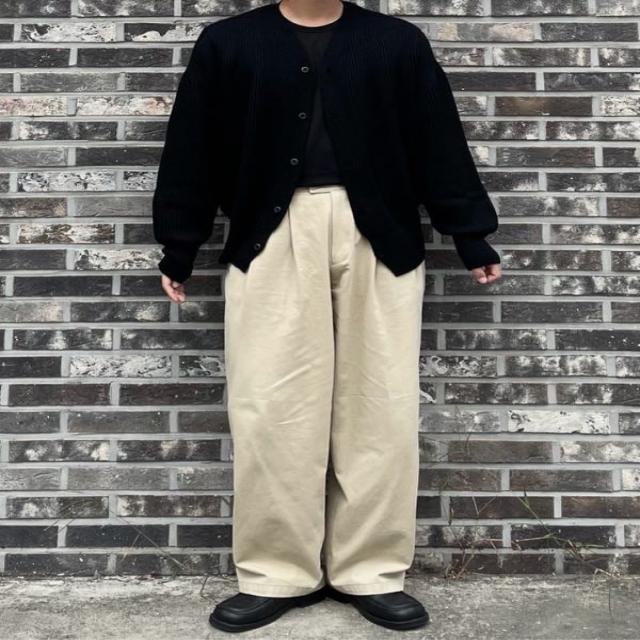cardigan: (148, 0, 501, 284)
cottonpants: (222, 185, 424, 597)
